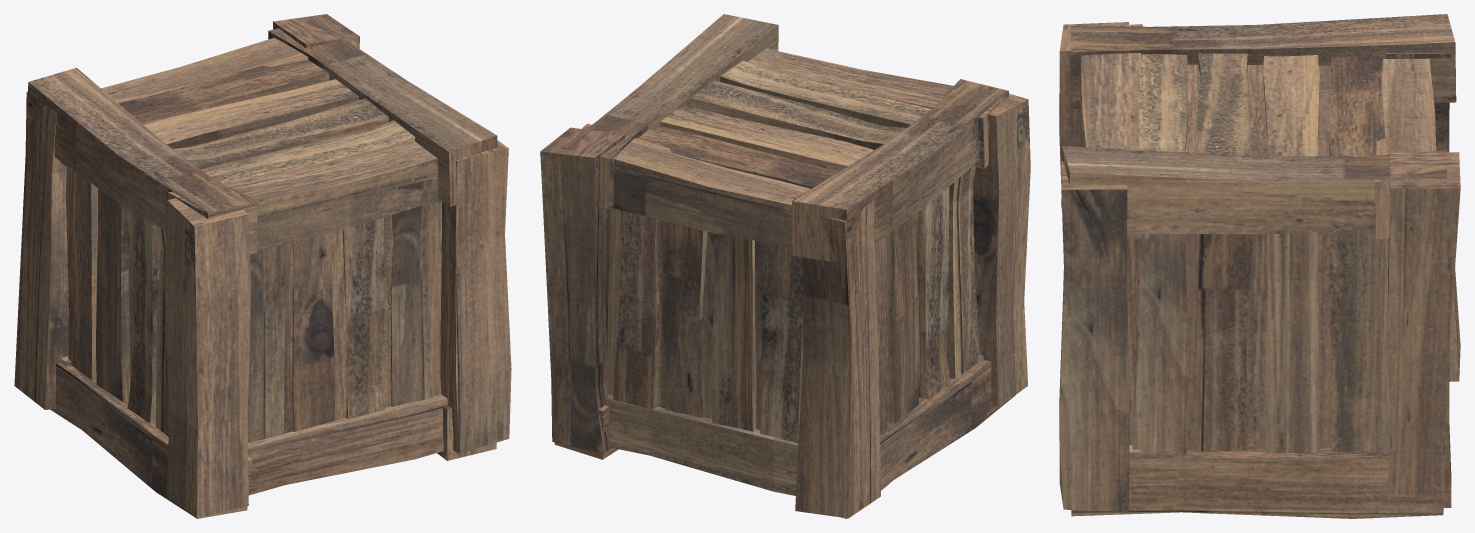
File: crate.dae
3 renders of one model, left to right at view 1: azimuth 30°, elevation 25°; view 2: azimuth 150°, elevation 25°; view 3: azimuth 270°, elevation 25°, orthographic. The views are drawn at different scales.
Visible parts, largest first — view 1: Cube.073; view 2: Cube.073; view 3: Cube.073.
Part boxes in pixels (x1=…): Cube.073: x1=14, y1=14, x2=511, y2=518; Cube.073: x1=540, y1=14, x2=1030, y2=518; Cube.073: x1=1059, y1=14, x2=1460, y2=518.
Size of the model in its own units: 2.43 by 2.44 by 2.32.
1 material, 1 textured.
